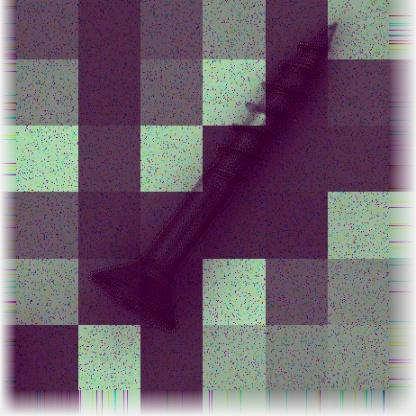metal: (84, 18, 341, 333)
